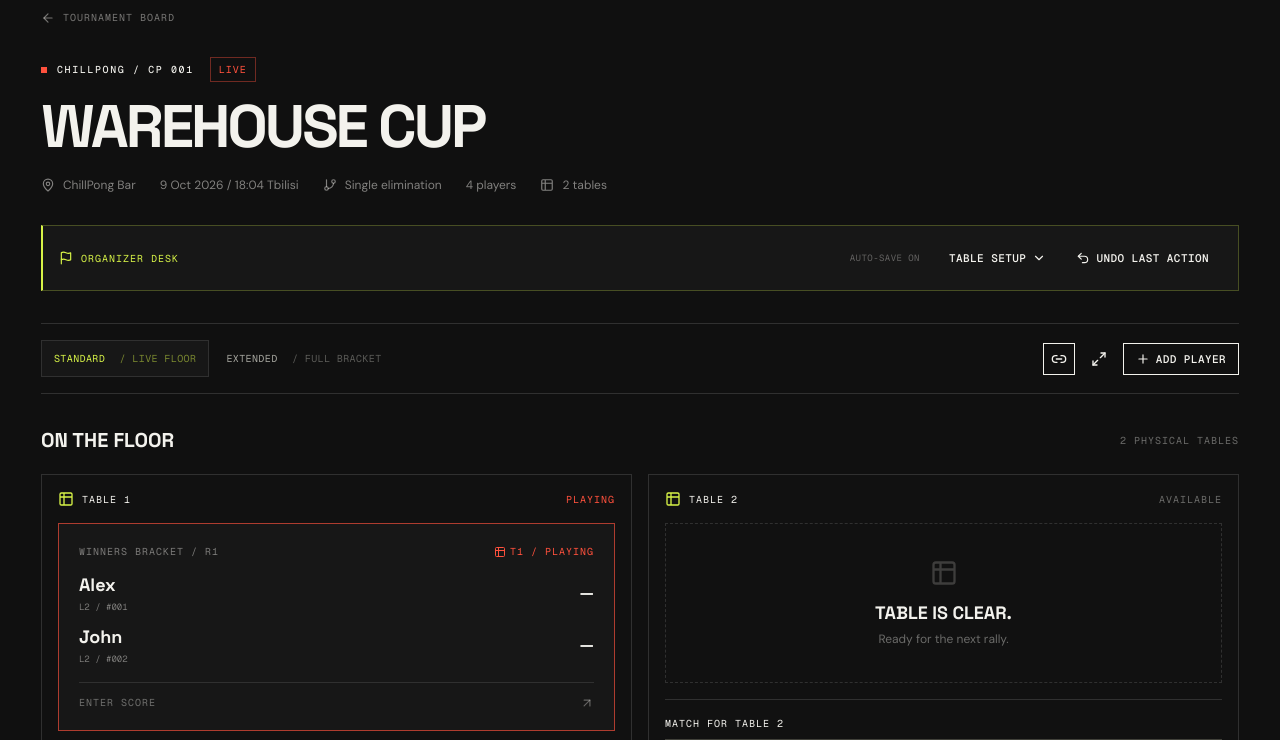
Test: live tournament room › adds a late player to the saved queue and edits skill without changing registration
The width and height of the screenshot is (1280, 740).
Click the button "Add player".
click(1181, 359)  # box x1=1123 y1=343 x2=1239 y2=375
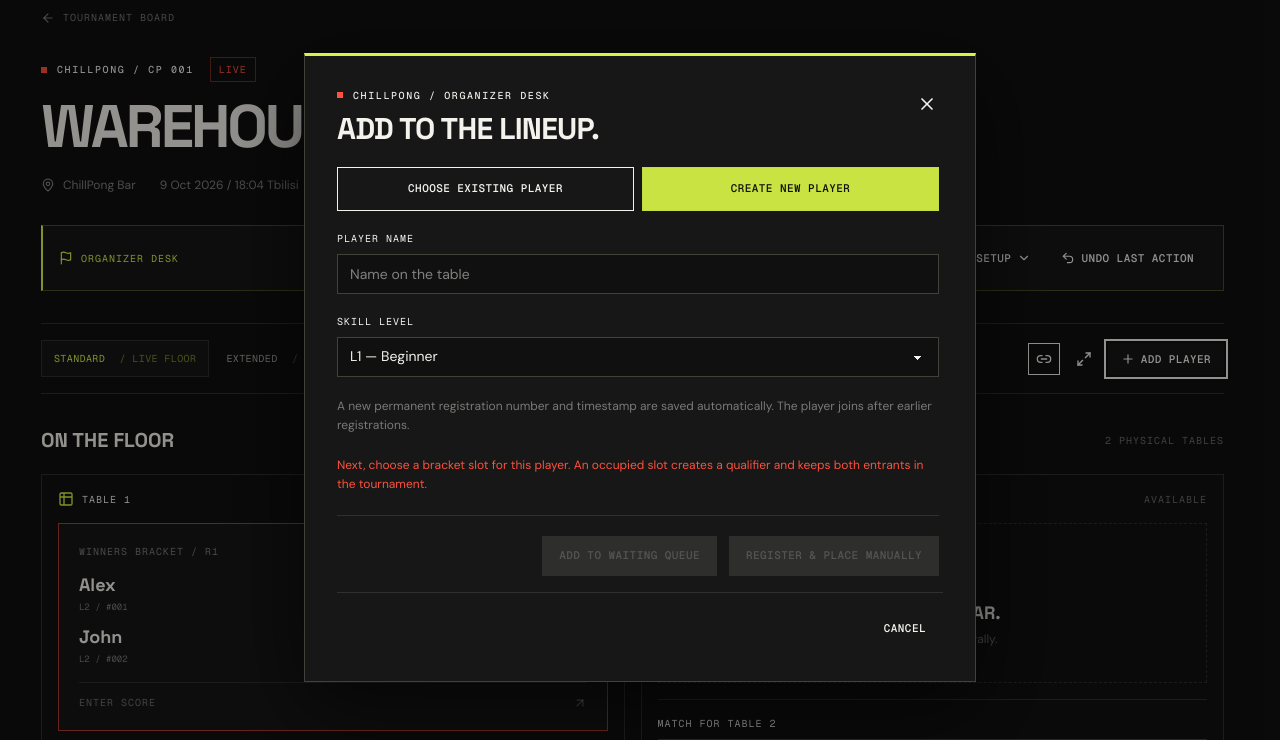
Type "  Late Arrival  " into the field labelled "Player name".
click(638, 274); type("  Late Arrival  ")  # box x1=337 y1=254 x2=939 y2=294
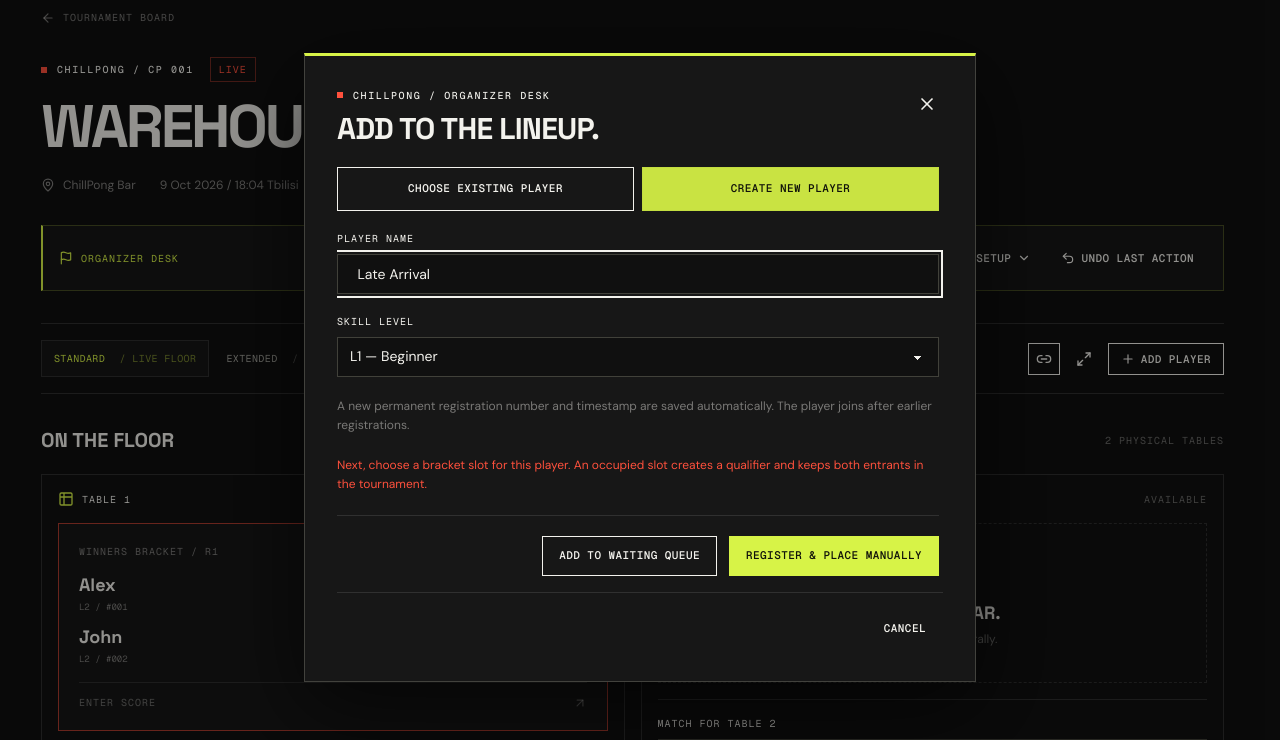
Select "L3 — Intermediate" in the dropdown labelled "Skill level" at (638, 356), box x1=337 y1=336 x2=939 y2=376
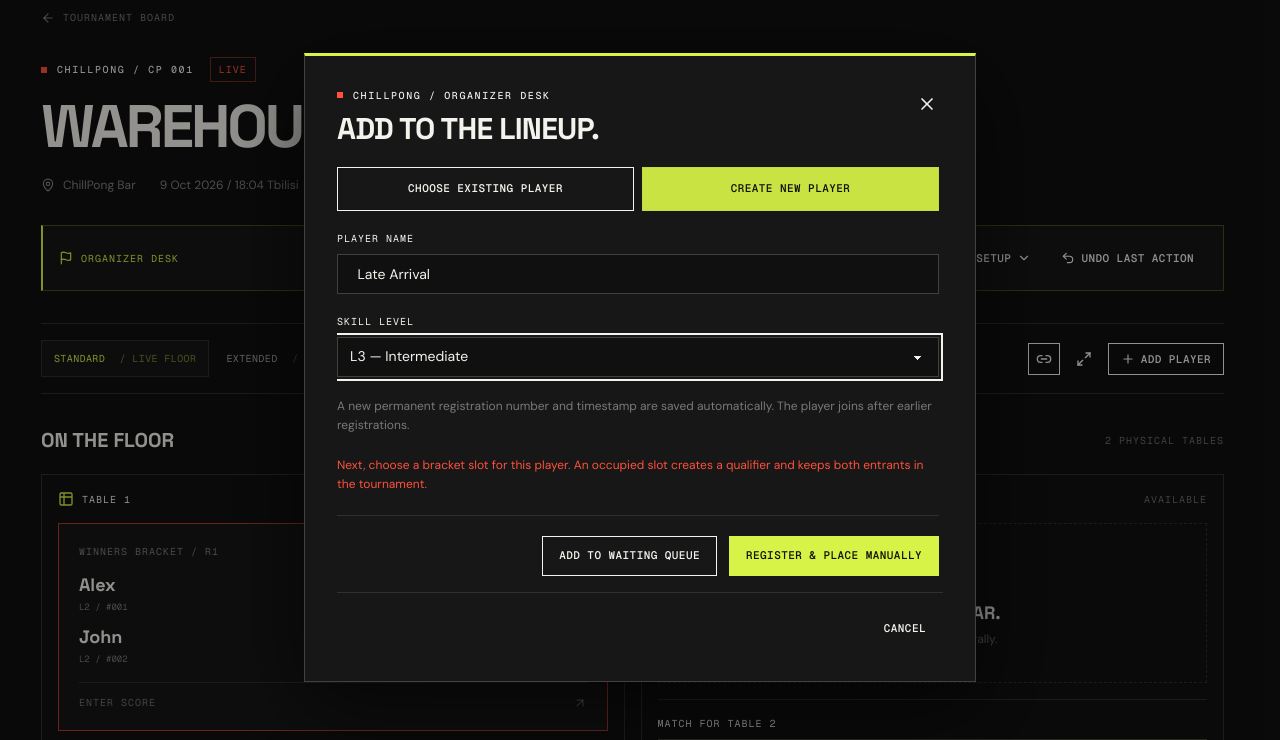
Click the button "Add to waiting queue".
click(630, 556)  # box x1=542 y1=536 x2=717 y2=576
(page scrolled)
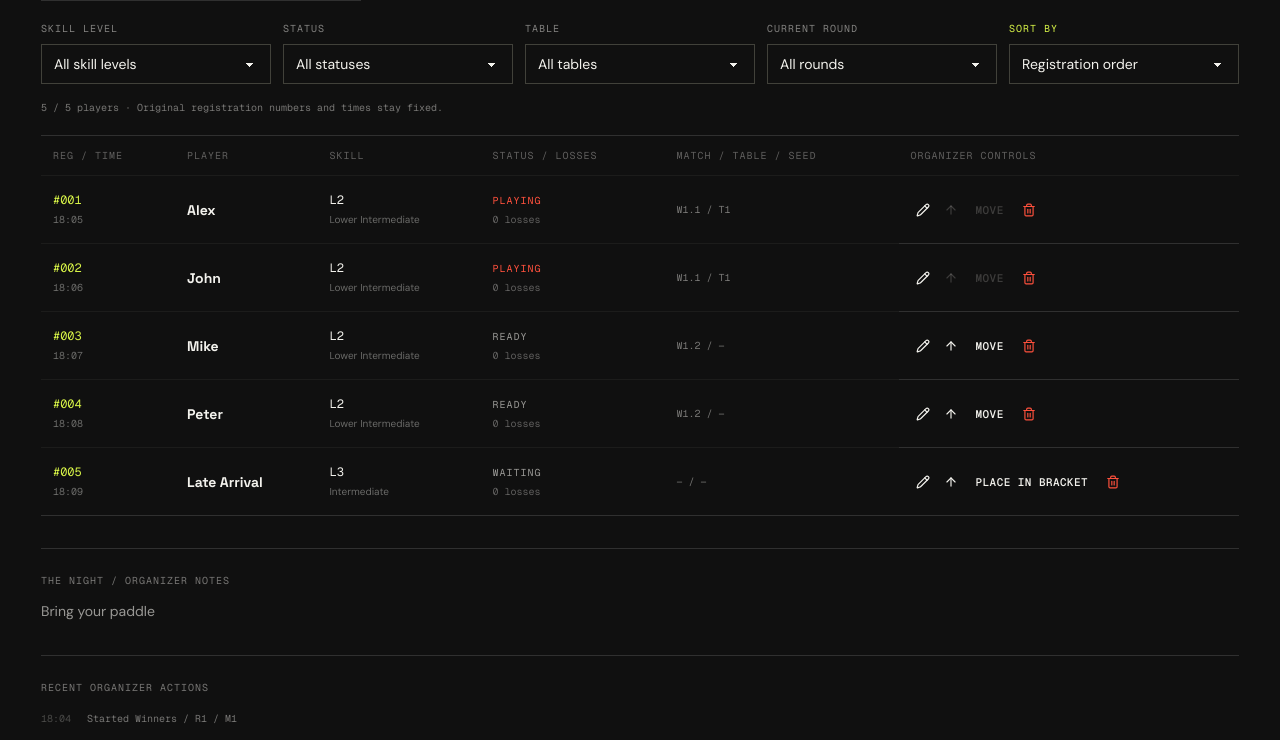
Expected: the row "Late Arrival" shows "#005", x1=53 y1=465 x2=82 y2=479
Expected: the row "Late Arrival" shows "L3", x1=41 y1=448 x2=1239 y2=515
Click the button named "Edit Late Arrival".
click(922, 482)  # box x1=910 y1=470 x2=934 y2=494
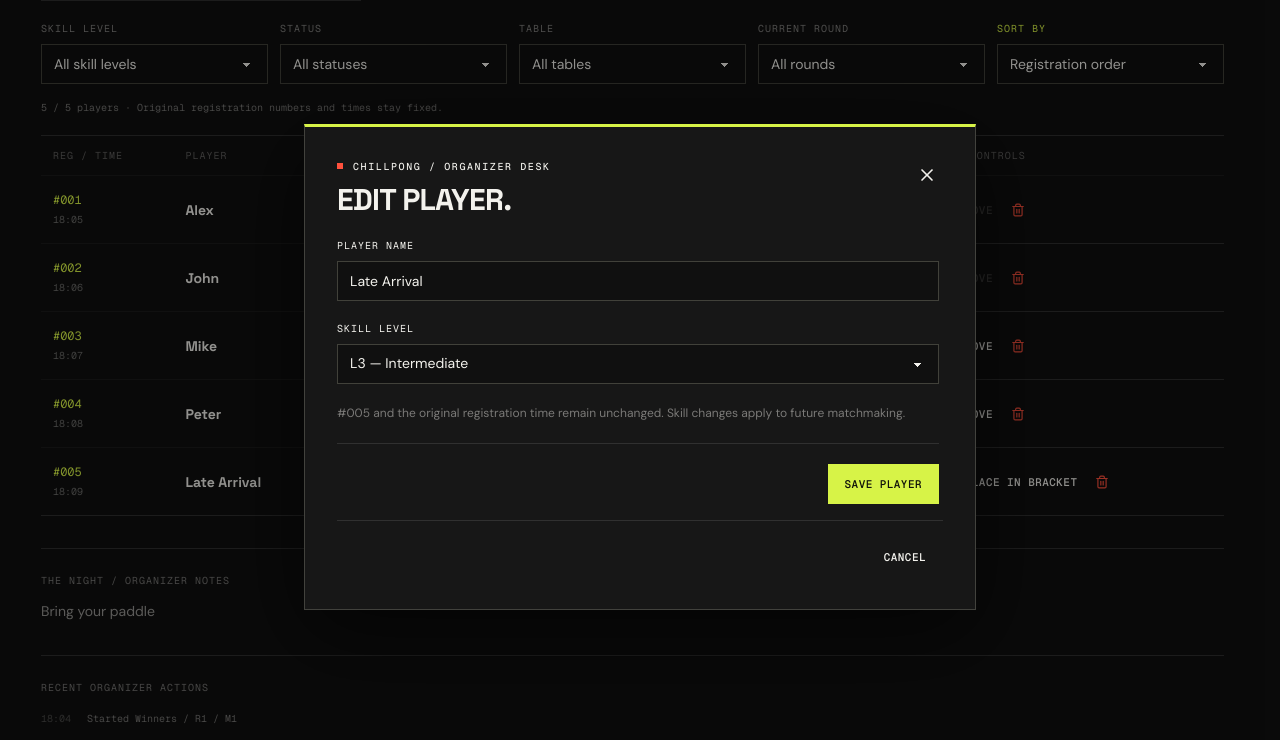
Select "L4 — Advanced" in the dropdown labelled "Skill level" at (638, 364), box x1=337 y1=344 x2=939 y2=384
Click the button "Save player".
click(883, 484)  # box x1=828 y1=464 x2=939 y2=504
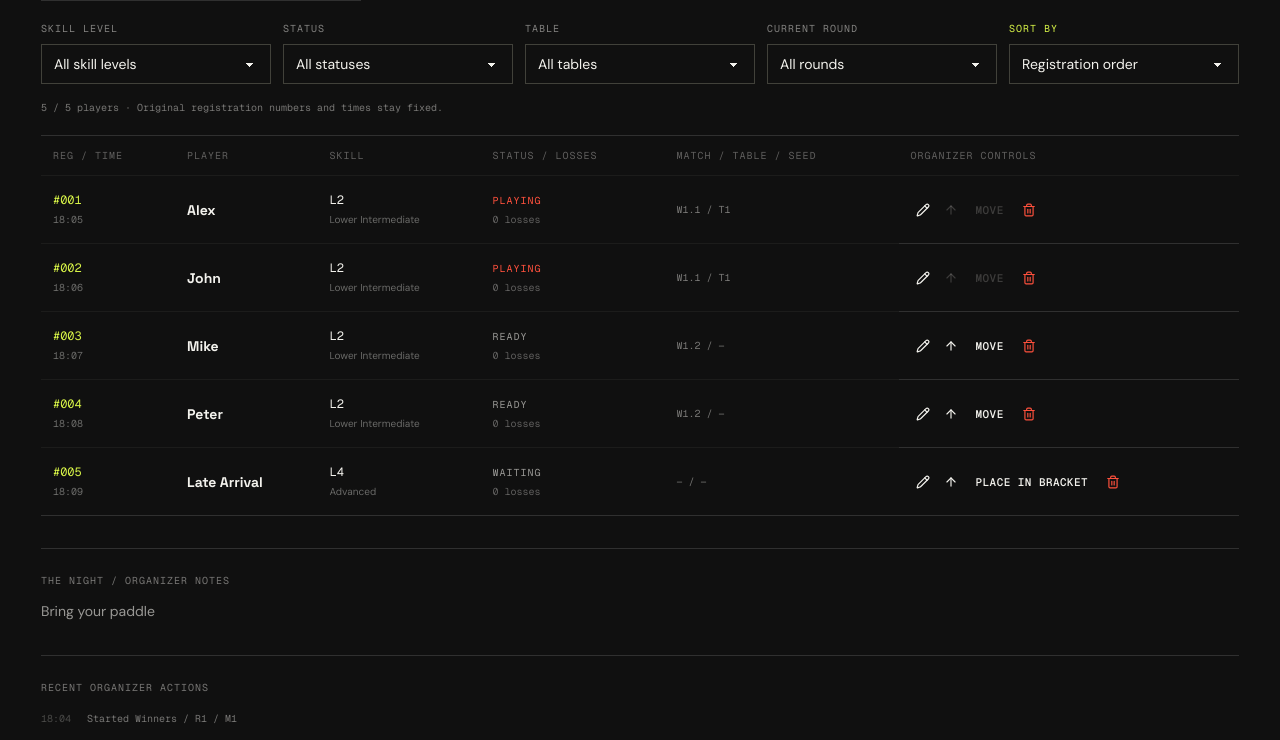
Expected: the row "Late Arrival" shows "L4", x1=41 y1=448 x2=1239 y2=515
